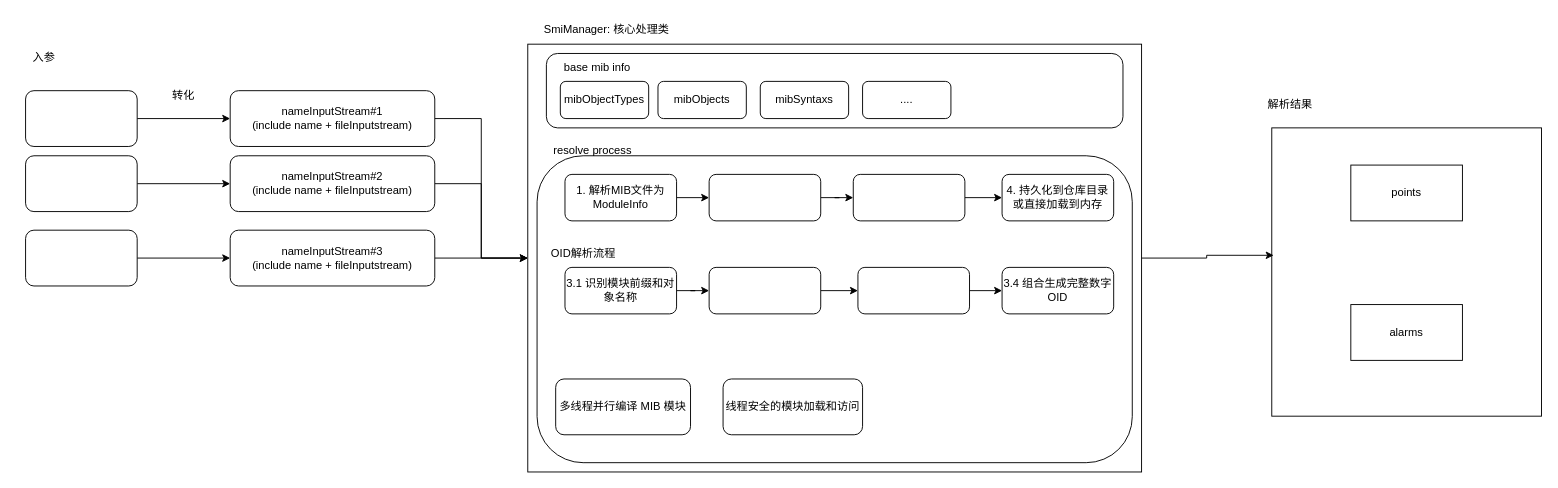
Some shapes in this 1558 by 488 pixel diagram are drawn without their labels. Here are the shapes that lost their labels. From the top down, the centre of each, then its label:
At (x=81, y=118): "fileId#1".
At (x=81, y=183): "fileId#2".
At (x=764, y=197): "2.检查模块依赖关系并排序".
At (x=908, y=197): "3. 语法检查和语义验证".
At (x=81, y=257): "fileId#3".
At (x=764, y=290): "3.2 查找对应 MIB对象定义".
At (x=913, y=290): "3.3 如果是表索引，进行索引值解码".
